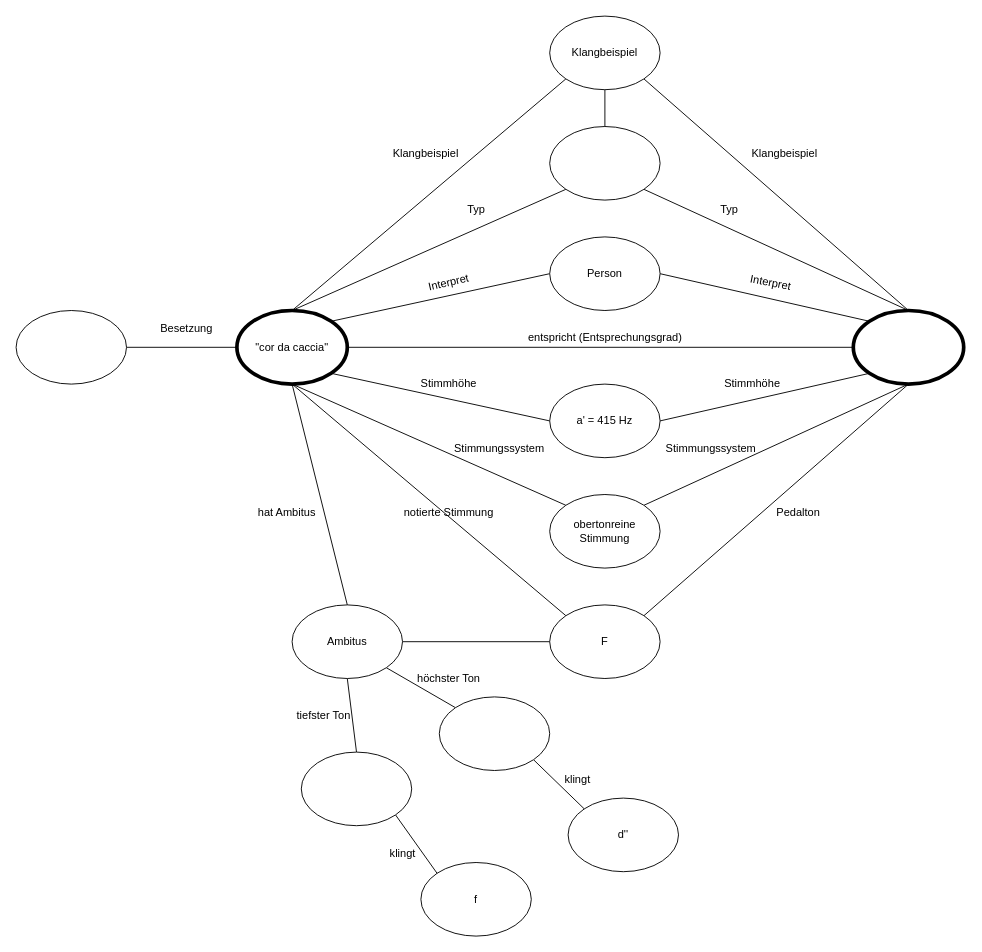
Some shapes in this 982 by 952 pixel diagram are drawn without their labels. The centre of each missing label's shape, as x and y in pixels:
"a''" belongs at point (494, 733).
"Barockhorn" belongs at point (604, 163).
"BWV 208" belongs at point (70, 347).
"c'" belongs at point (356, 788).
"Objekt MIMUL Inv.-Nr. 1663" belongs at point (908, 346).
